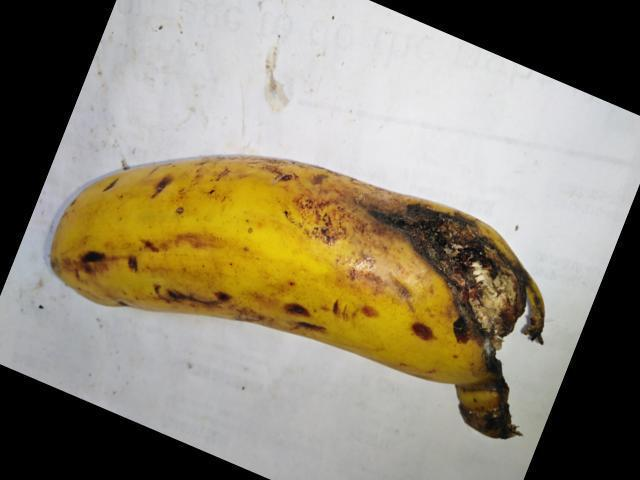ripe: (34, 126, 563, 444)
rotten: (359, 180, 564, 368)
